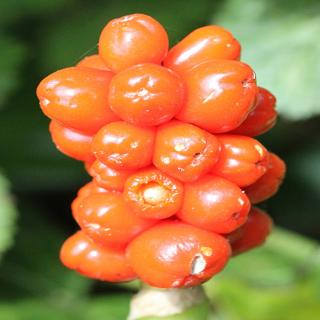tomato: (104, 60, 190, 125)
